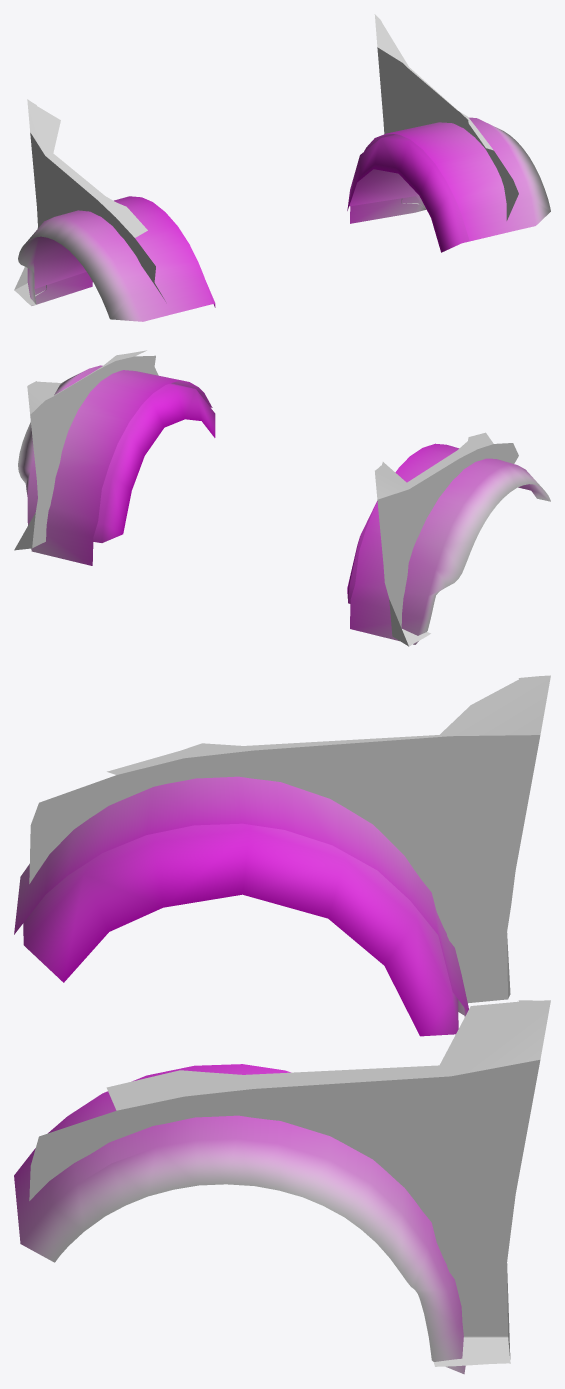
File: Car_Mini_CountrymanJCW_2017_FendersChassisF_SetE.fbx
The picture shows the model from 3 angles, top to bottom: view 1: azimuth 30°, elevation 25°; view 2: azimuth 150°, elevation 25°; view 3: azimuth 270°, elevation 25°; orthographic projection. The views are drawn at different scales.
Parts seen in each view (by area): view 1: FendersChassisF 6; view 2: FendersChassisF 6; view 3: FendersChassisF 6.
Boxes of the visible parts, bbox=[...] form: FendersChassisF 6: bbox=[14, 14, 550, 321]; FendersChassisF 6: bbox=[14, 350, 550, 646]; FendersChassisF 6: bbox=[14, 675, 550, 1374].
Bounding box in the file's own units: 1.94 × 0.7685 × 1.05.
